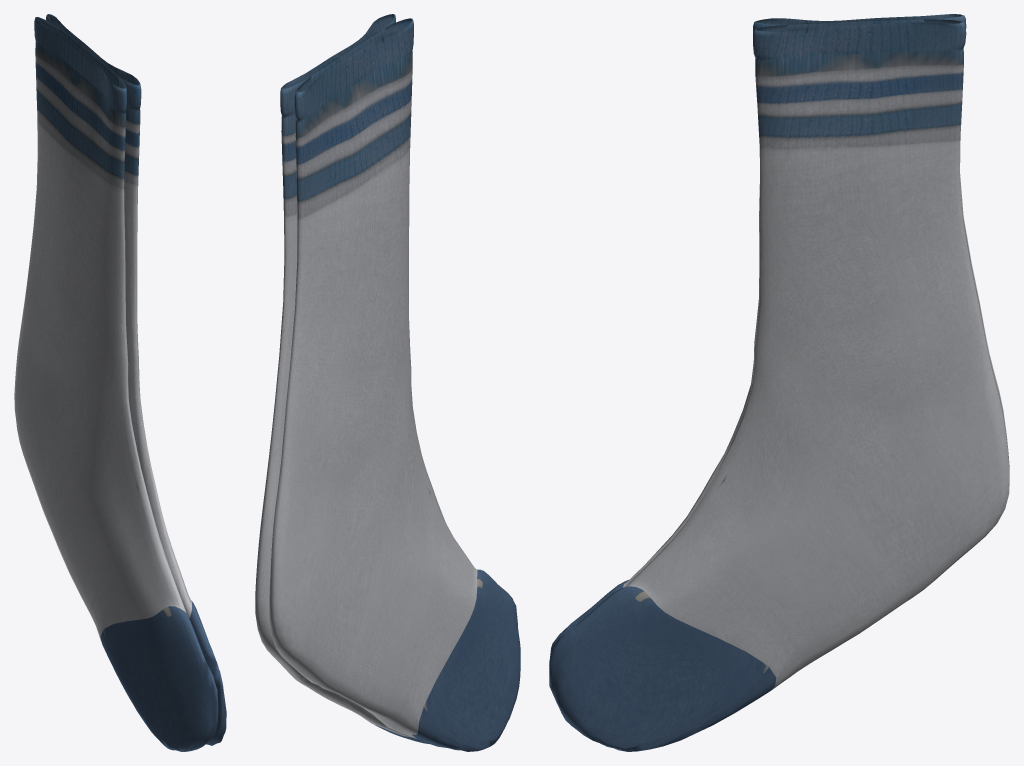
The model's file is SOCK.FBX.
3 views of the same model, side by side, from view 1: azimuth 30°, elevation 25°; view 2: azimuth 150°, elevation 25°; view 3: azimuth 270°, elevation 25° (orthographic). The views are drawn at different scales.
Parts seen in each view (by area): view 1: Object #0; view 2: Object #0; view 3: Object #0.
Boxes of the visible parts, left/top/right/bottom form: Object #0: left=14, top=14, right=226, bottom=751; Object #0: left=255, top=14, right=520, bottom=751; Object #0: left=549, top=14, right=1009, bottom=751.
Size of the model in its own units: 0.0286 by 0.3652 by 0.2111.
